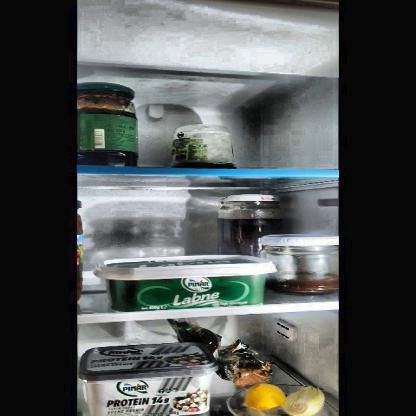cheese: (81, 342, 216, 416), (96, 257, 266, 306)
lemon: (246, 383, 285, 409)
onion: (284, 386, 326, 416)
